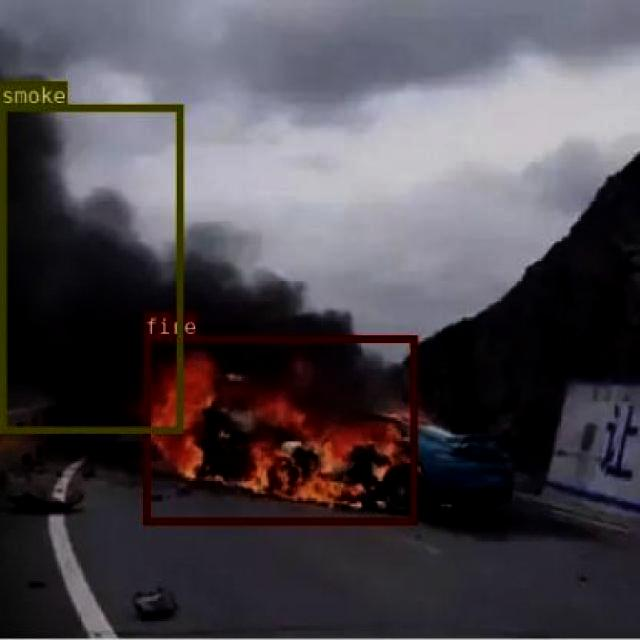fire: (143, 335, 417, 523)
smoke: (1, 102, 181, 432)
